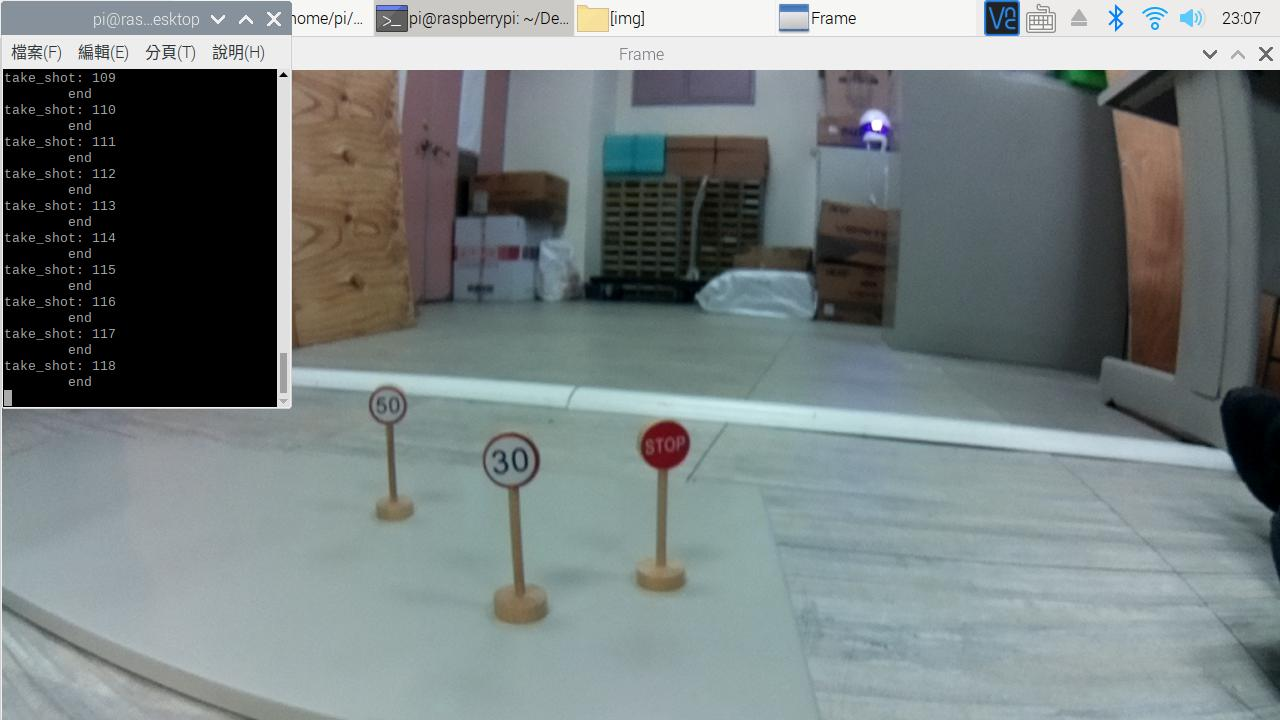Speed30: (476, 426, 547, 498)
Speed50: (361, 378, 418, 430)
Stop: (631, 416, 704, 486)
